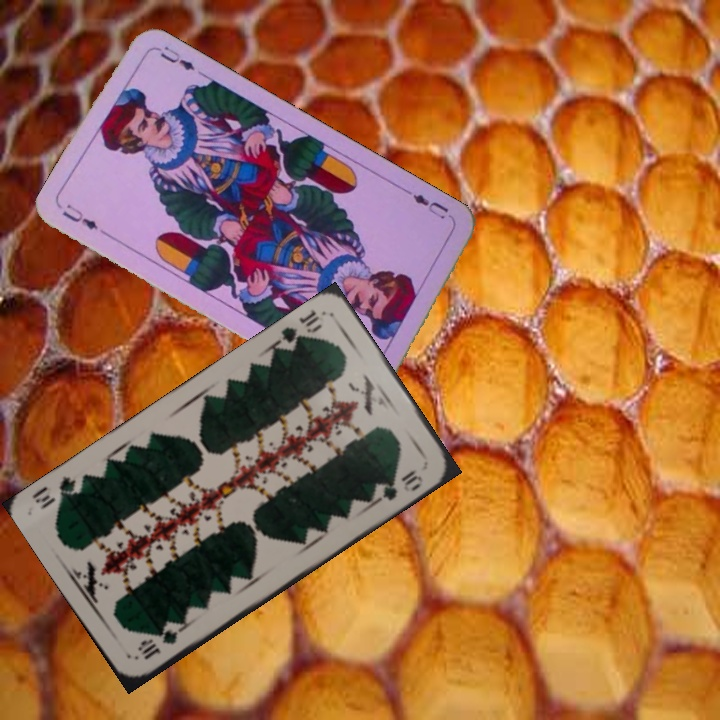EU: (403, 186, 451, 222), (58, 200, 101, 233)
G10: (134, 618, 186, 663), (273, 305, 325, 350)
